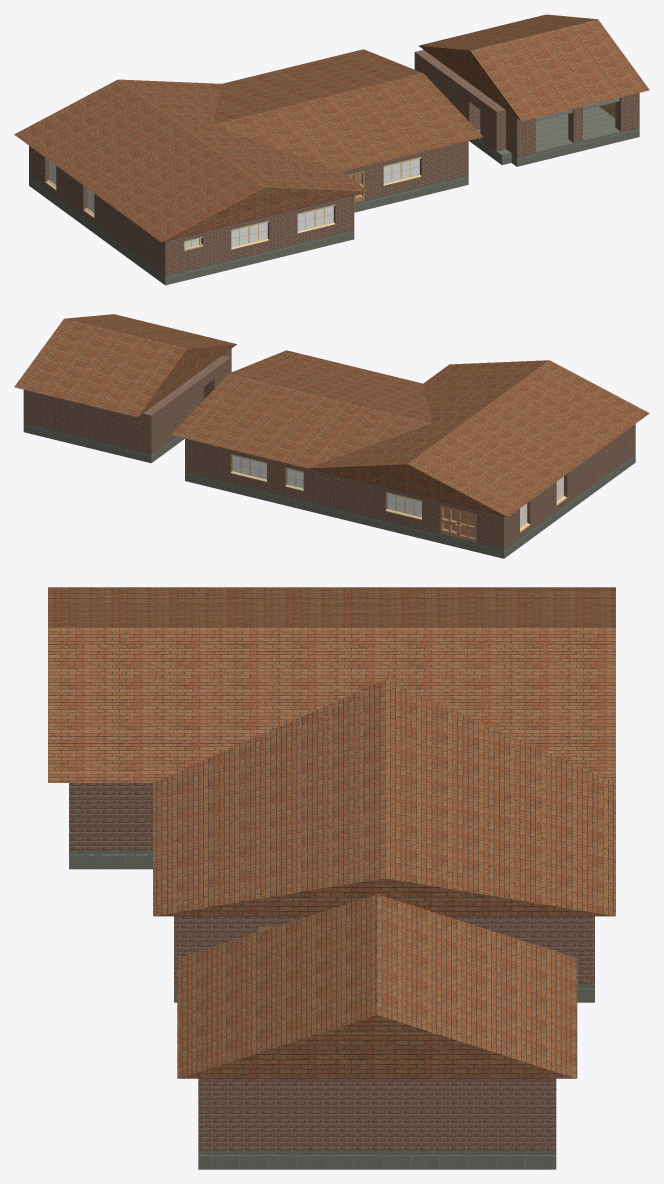
Rendered from QuickStart.dae.
The picture shows the model from 3 angles, top to bottom: view 1: azimuth 30°, elevation 25°; view 2: azimuth 150°, elevation 25°; view 3: azimuth 270°, elevation 25°; orthographic projection. The views are drawn at different scales.
Visible parts, largest first — view 1: Node6, Node17, Node11, Node16, Node7, Node14, Node3, Node2; view 2: Node6, Node17, Node11, Node16, Node7, Node3, Node14, Node4, Node2; view 3: Node6, Node17, Node16, Node11, Node14, Node7.
Boxes of the visible parts, x1,y1,x2,y2 form: Node6: (14, 49, 482, 242); Node17: (418, 14, 649, 121); Node11: (29, 141, 468, 275); Node16: (414, 49, 639, 156); Node7: (29, 175, 468, 285); Node14: (469, 106, 639, 166); Node3: (49, 159, 419, 247); Node2: (45, 157, 421, 250); Node6: (171, 350, 649, 517); Node17: (14, 314, 236, 417); Node11: (185, 424, 635, 549); Node16: (23, 348, 231, 453); Node7: (185, 453, 635, 558); Node3: (233, 456, 563, 527); Node14: (23, 423, 184, 463); Node4: (440, 505, 476, 542); Node2: (230, 454, 567, 532); Node6: (48, 587, 615, 916); Node17: (177, 894, 577, 1078); Node16: (198, 950, 556, 1150); Node11: (69, 783, 594, 983); Node14: (198, 1150, 556, 1169); Node7: (69, 850, 594, 1002).
Size of the model in its own units: 55.27 by 27 by 8.35.
